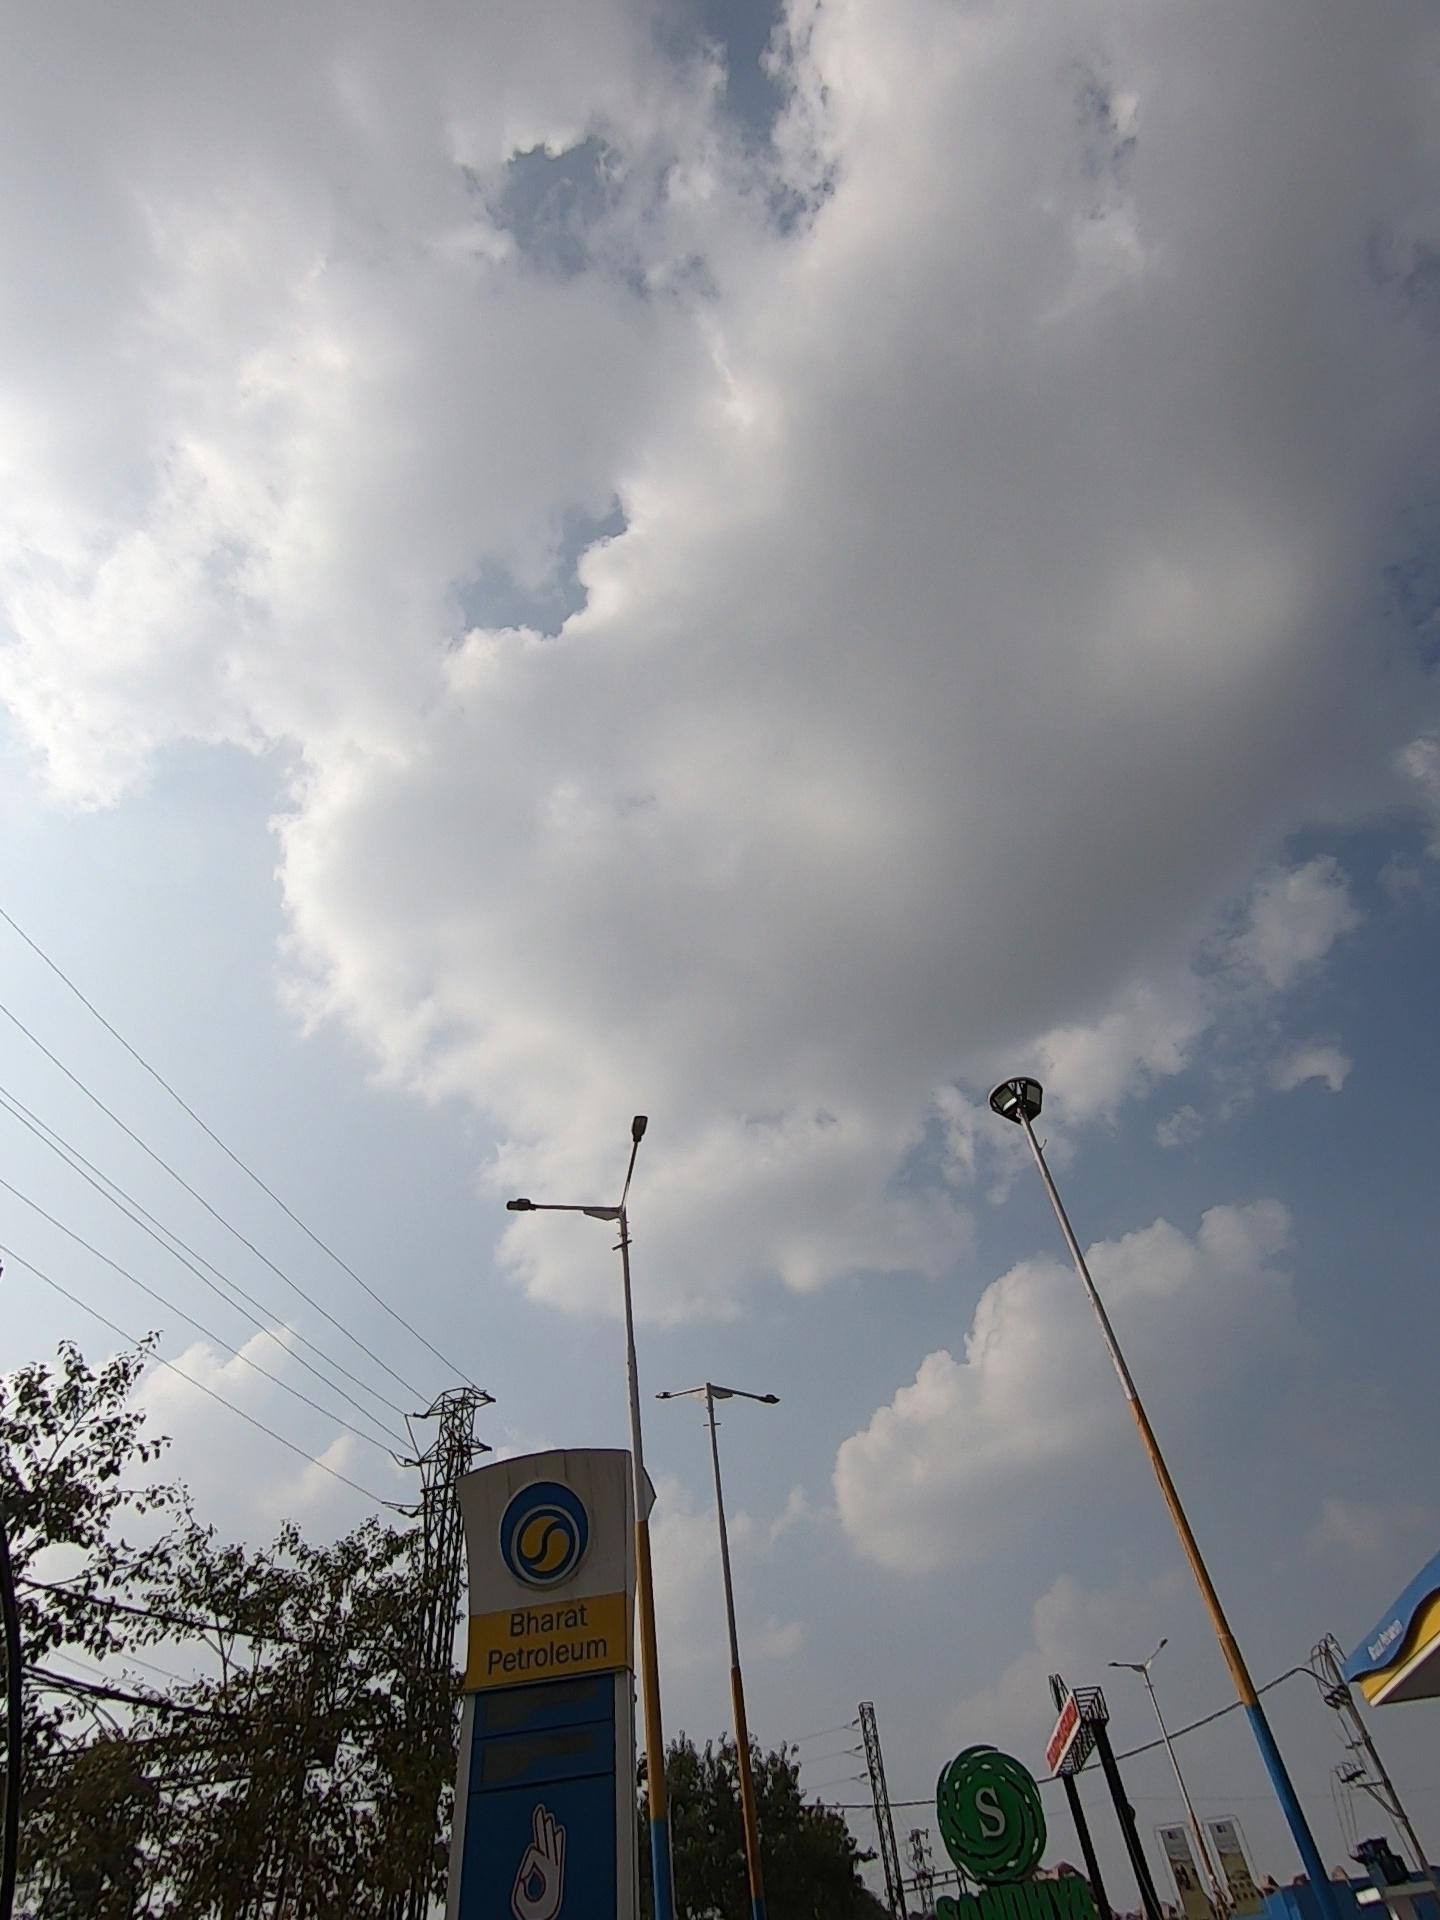off: (479, 1131, 794, 1279), (933, 1007, 1133, 1146), (623, 1358, 814, 1469)
